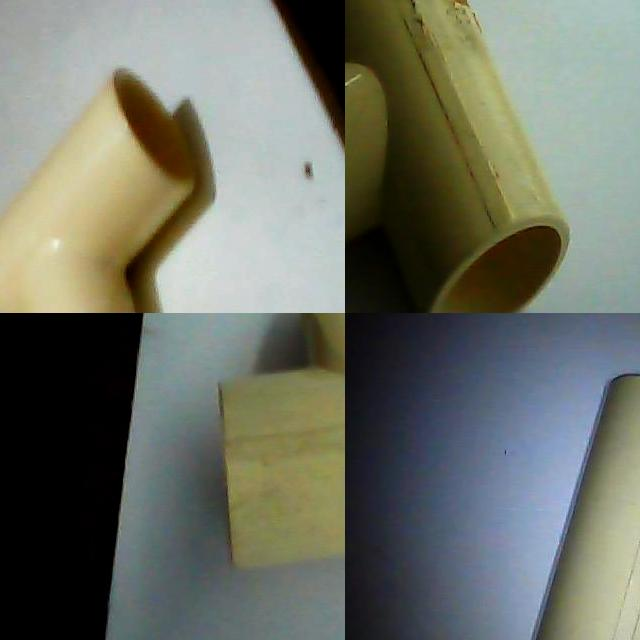T Joint: (345, 0, 571, 313), (0, 69, 197, 313), (218, 313, 345, 573), (532, 374, 640, 640)
